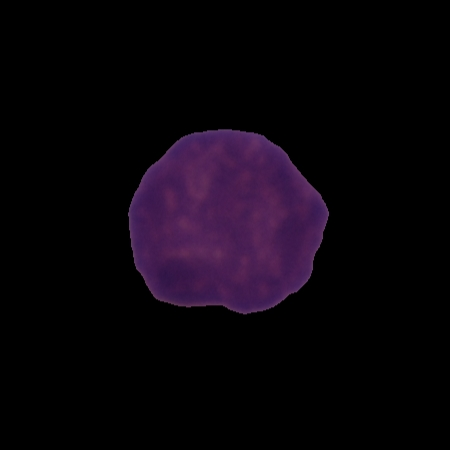HEM: (125, 125, 331, 316)
